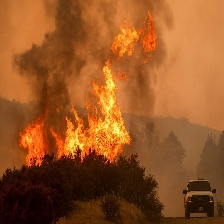fire: (55, 71, 126, 164), (113, 15, 161, 64), (15, 123, 46, 173)
smoke: (8, 2, 92, 118), (126, 64, 175, 144)
